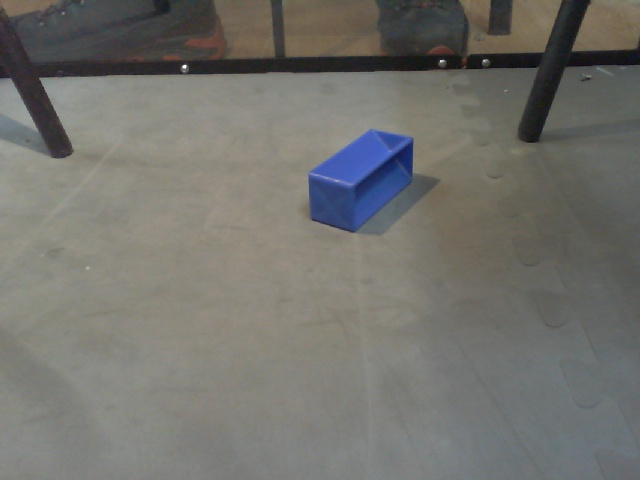BlueSample: (306, 126, 416, 234)
